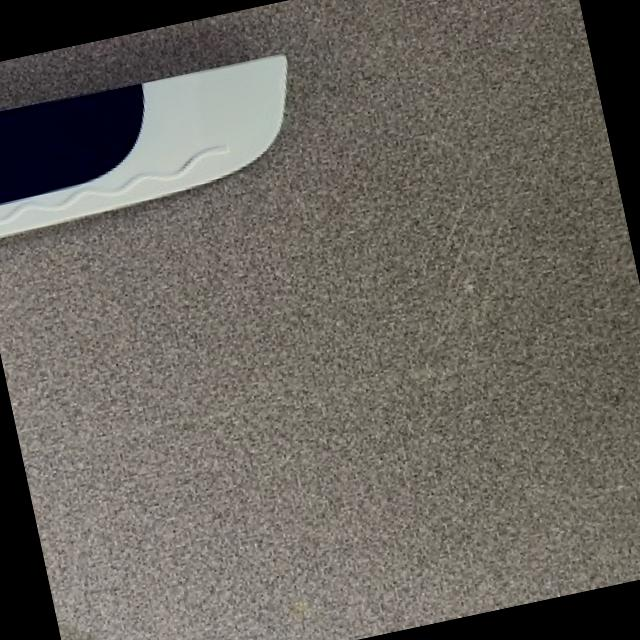healthy: (0, 53, 284, 235)
